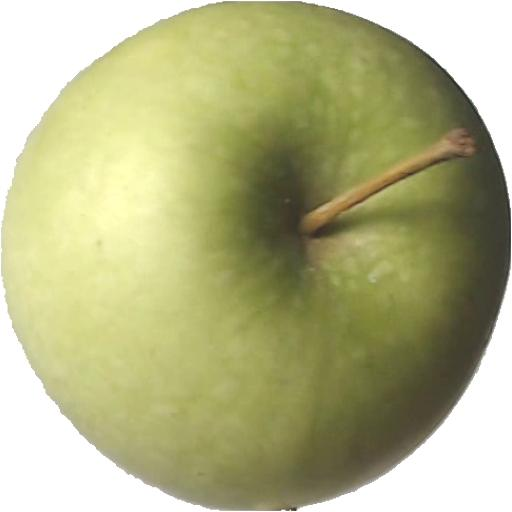apple-unripe: (0, 0, 502, 512)
